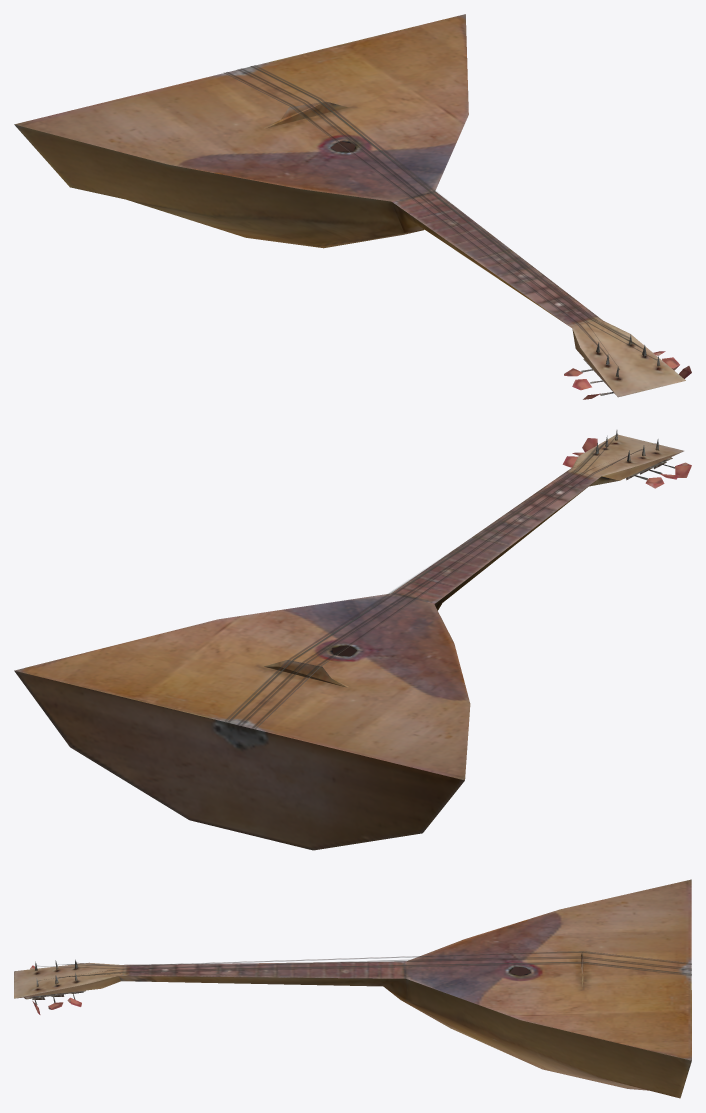
File: balalaika.lod1.glb
The picture shows the model from 3 angles, top to bottom: view 1: azimuth 30°, elevation 25°; view 2: azimuth 150°, elevation 25°; view 3: azimuth 270°, elevation 25°; orthographic projection. The views are drawn at different scales.
Visible parts, largest first — view 1: balalaika; view 2: balalaika; view 3: balalaika.
Part boxes in pixels (x1,y1,x2,y2): balalaika: (14,14,691,399); balalaika: (14,430,691,850); balalaika: (14,879,691,1098).
Size of the model in its own units: 0.4426 by 0.1252 by 0.6994.
1 material, 1 textured.
